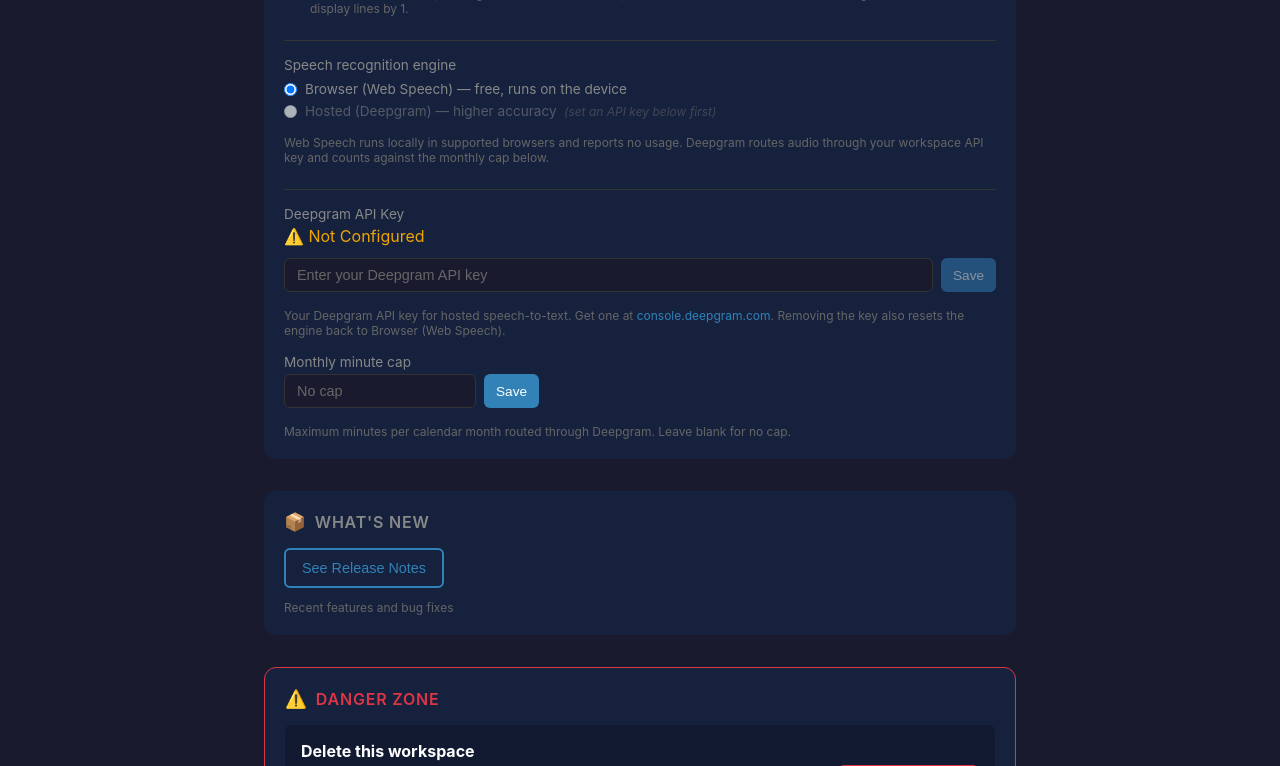
Scenario: WorkspaceHome — issue #412 STT settings UI › rejects a non-integer cap with a local error message and does not PATCH
(page scrolled)
Type "3.5" into the number field named "Monthly Deepgram minute cap". click: (380, 391)
box: [284,374,476,408]
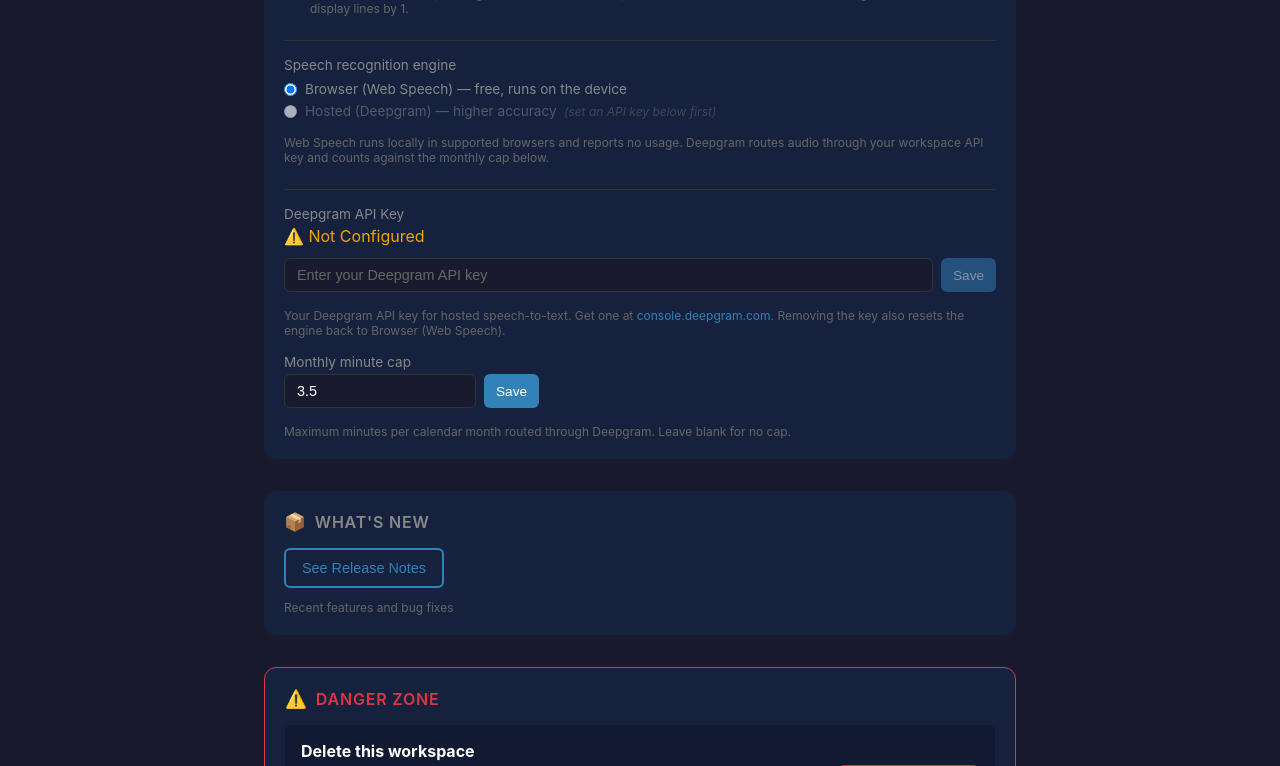
Click the button "Save" below "Monthly minute cap". click: (512, 391)
box: [484,374,539,408]
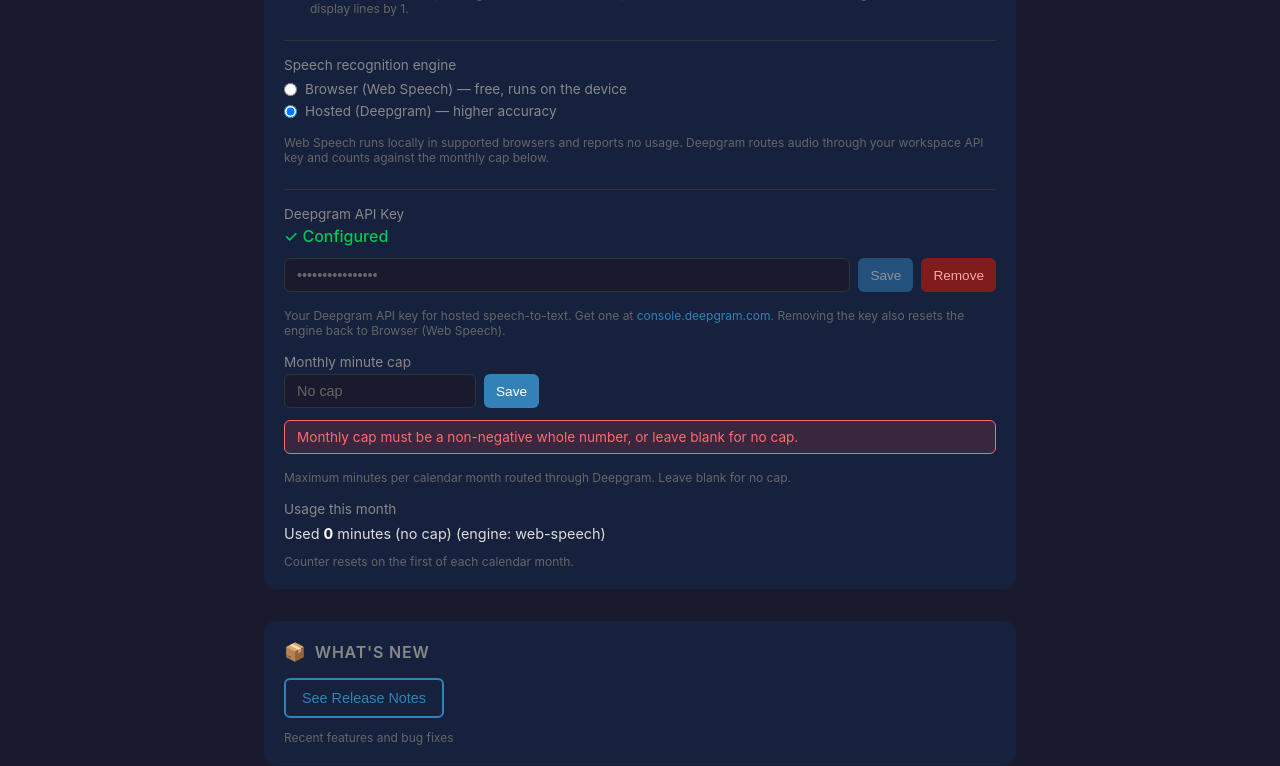
expect the text "non-negative whole number" is shown: met, box [297,429,798,445]
